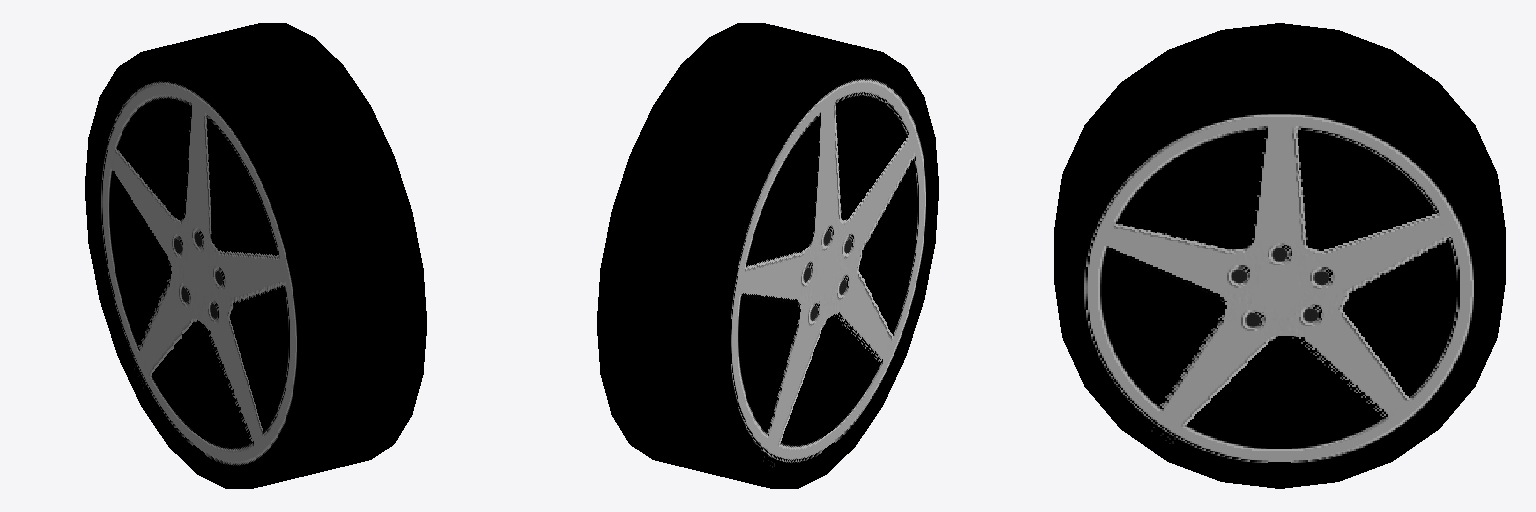
3 renders of one model, left to right at view 1: azimuth 30°, elevation 25°; view 2: azimuth 150°, elevation 25°; view 3: azimuth 270°, elevation 25°, orthographic.
Visible parts, largest first — view 1: Cylinder2; view 2: Cylinder2; view 3: Cylinder2.
Part boxes in pixels (x1,y1,x2,y2): Cylinder2: (85, 23, 426, 488); Cylinder2: (597, 23, 938, 488); Cylinder2: (1054, 23, 1505, 488).
Size of the model in its own units: 0.3 by 1 by 1.
Materials: 1 (1 with a texture image).